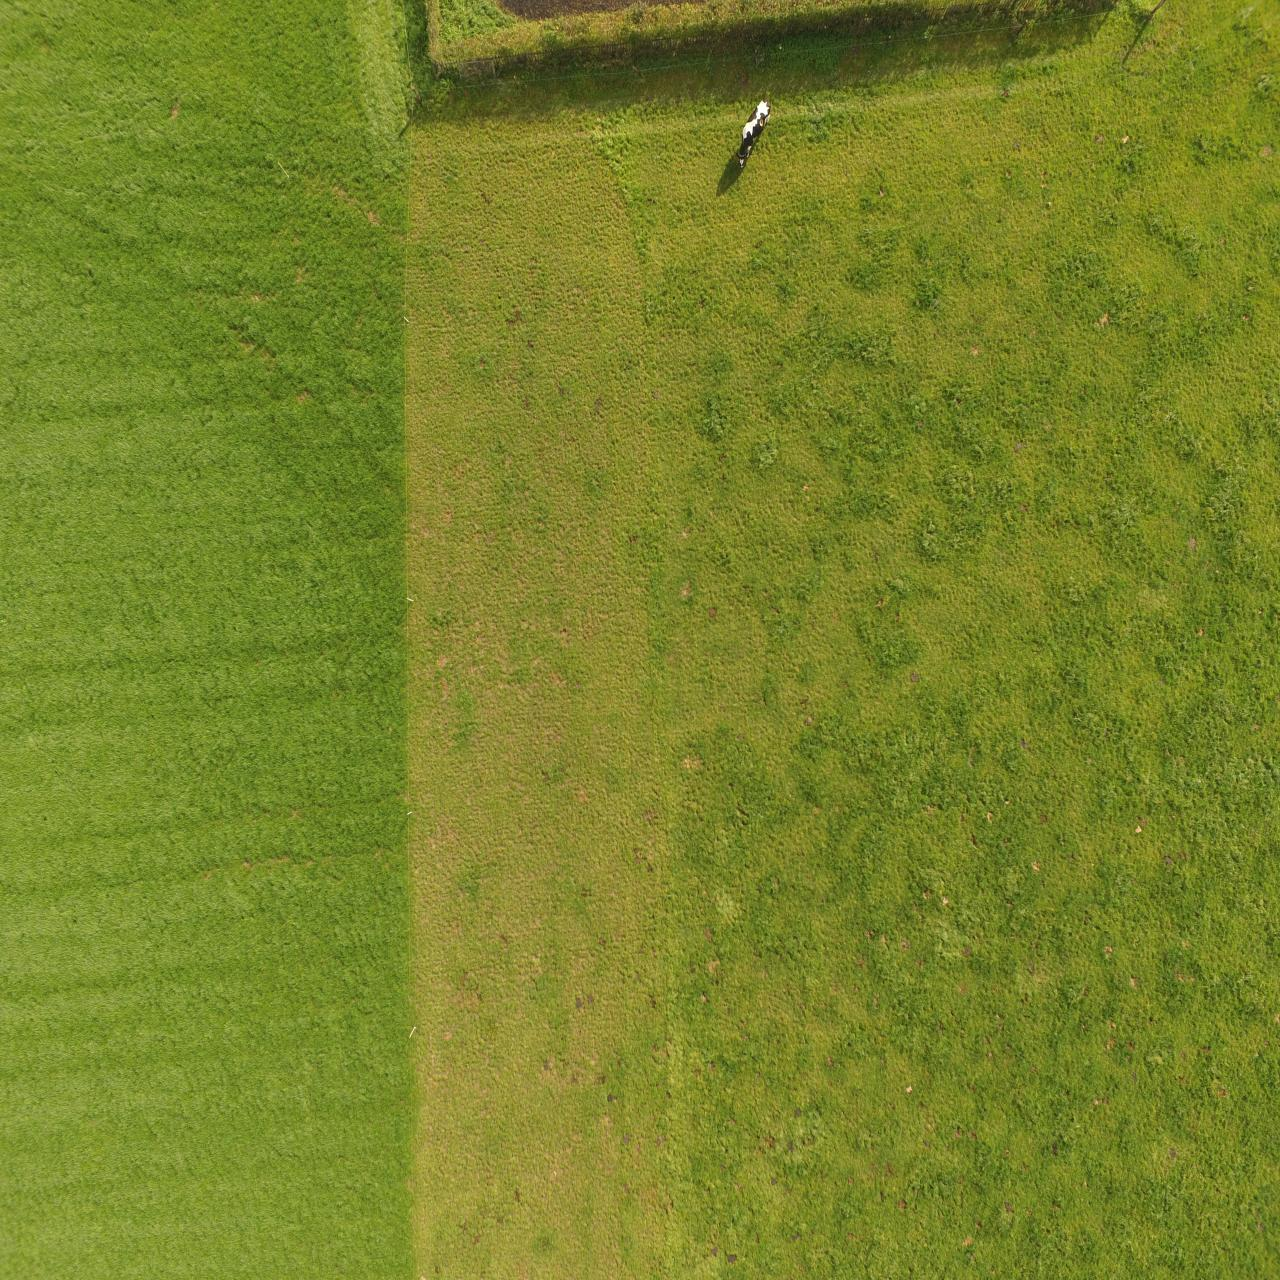cow: (736, 97, 771, 169)
